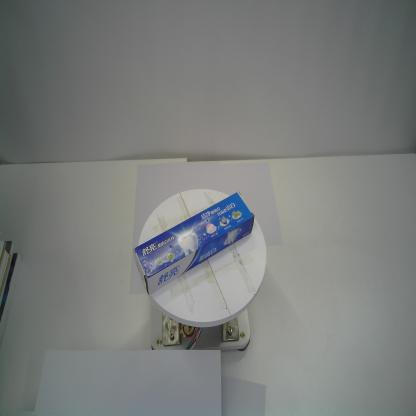Personal Hygiene: (131, 189, 255, 296)
